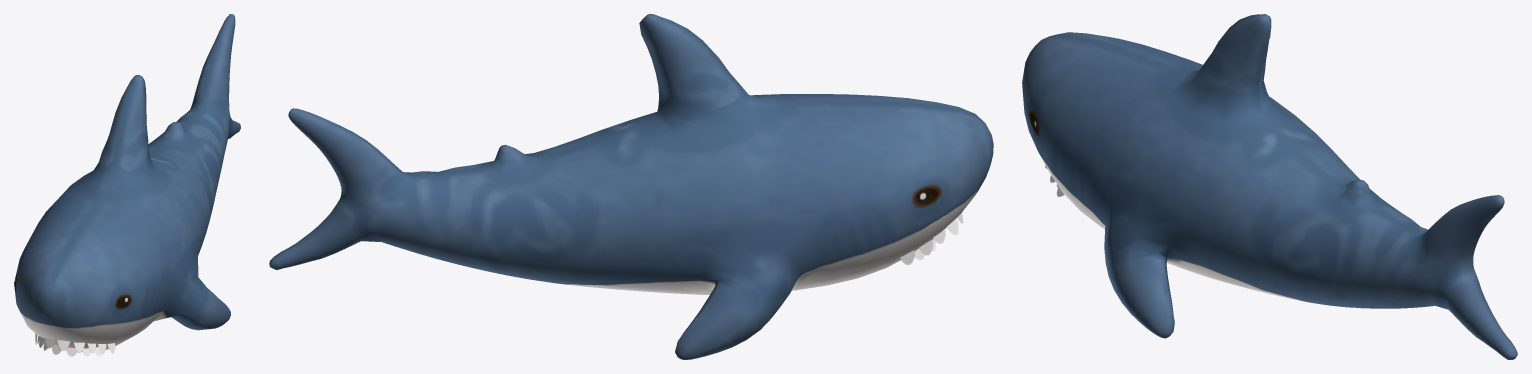
Rendered from blahaj-transformed.glb.
3 renders of one model, left to right at view 1: azimuth 30°, elevation 25°; view 2: azimuth 150°, elevation 25°; view 3: azimuth 270°, elevation 25°, orthographic. The views are drawn at different scales.
Parts seen in each view (by area): view 1: Low_poly_blahaj1_Shark_0, Low_poly_blahaj1_teef_0; view 2: Low_poly_blahaj1_Shark_0, Low_poly_blahaj1_teef_0; view 3: Low_poly_blahaj1_Shark_0.
Boxes of the visible parts, x1,y1,x2,y2 form: Low_poly_blahaj1_Shark_0: (14, 14, 240, 352); Low_poly_blahaj1_teef_0: (35, 333, 115, 356); Low_poly_blahaj1_Shark_0: (269, 14, 993, 359); Low_poly_blahaj1_teef_0: (900, 212, 962, 264); Low_poly_blahaj1_Shark_0: (1022, 14, 1517, 359).
Size of the model in its own units: 0.0571 by 0.0325 by 0.0499.
2 materials, 2 textured.
